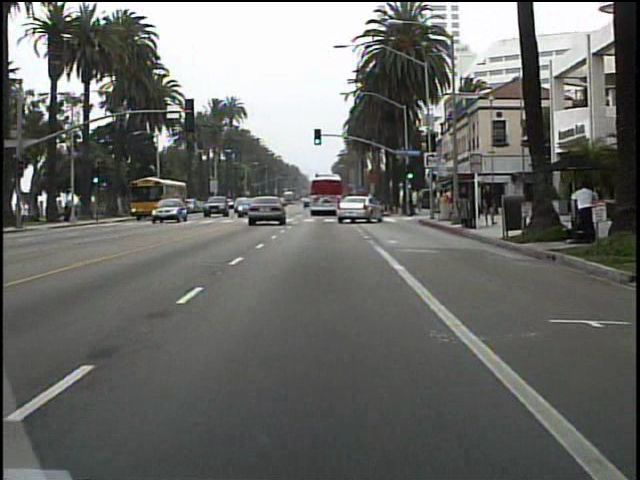person: (570, 177, 591, 238), (481, 180, 499, 230), (458, 183, 475, 224), (440, 183, 454, 221)
